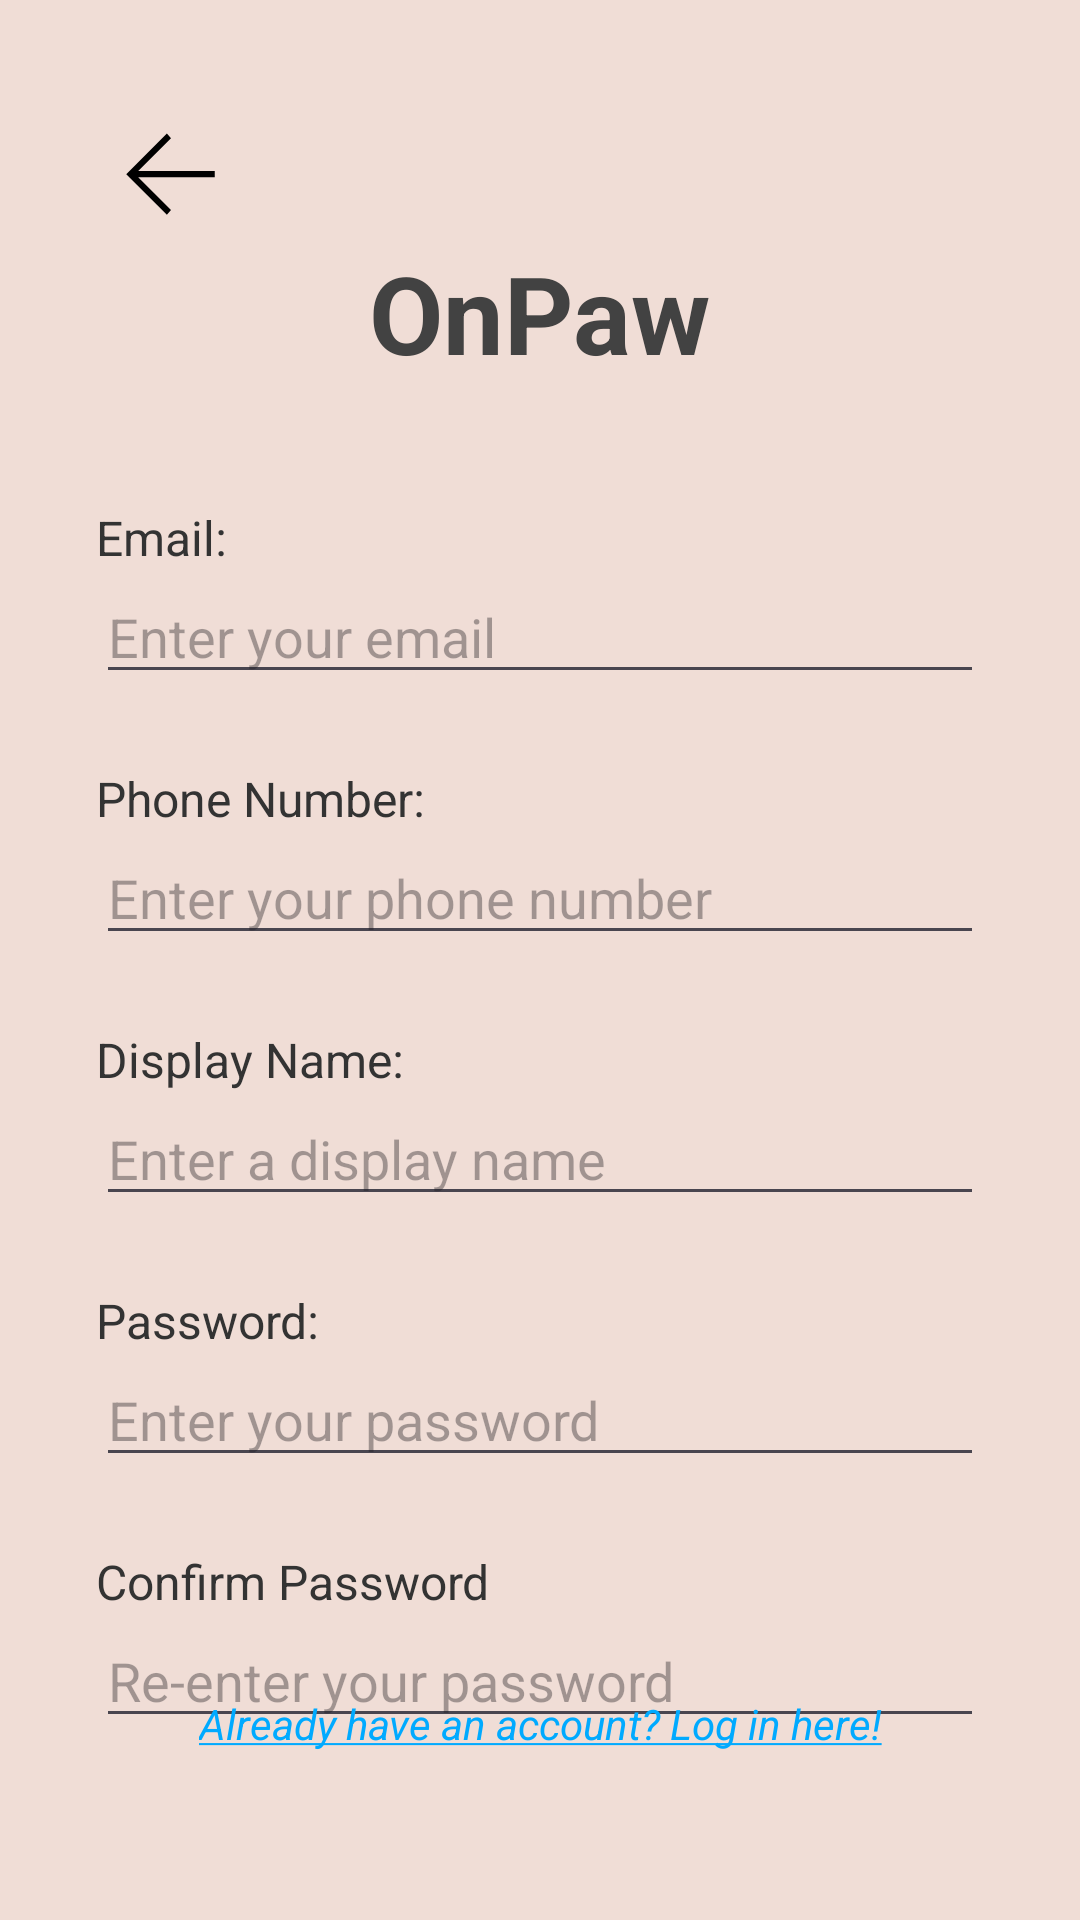

Named icons in this screenshot (1080*1920) and their bounding boxes, (x1, y1, x2, y2):
Back button: (126, 133, 215, 215)
